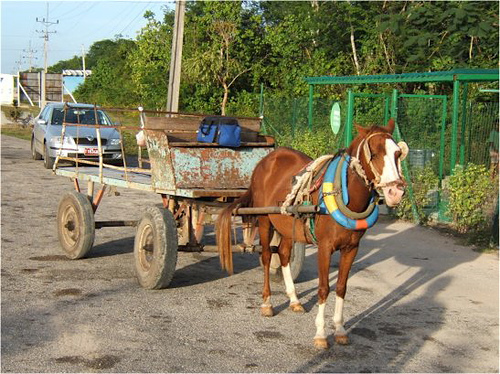horse: (249, 115, 409, 349)
